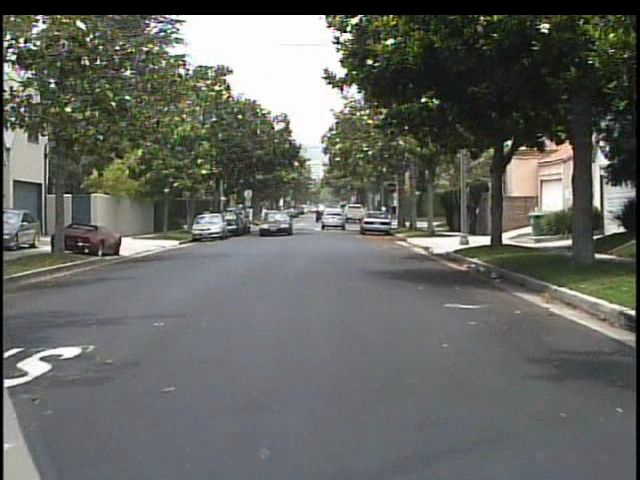person: (467, 194, 482, 236), (200, 205, 215, 233)
